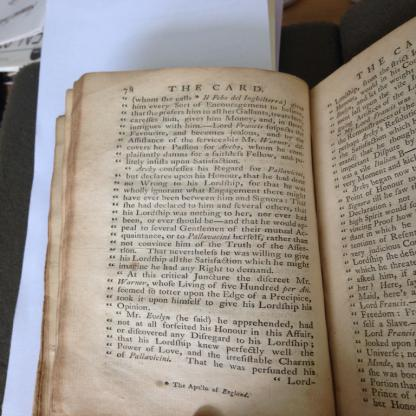book: (25, 18, 416, 416)
